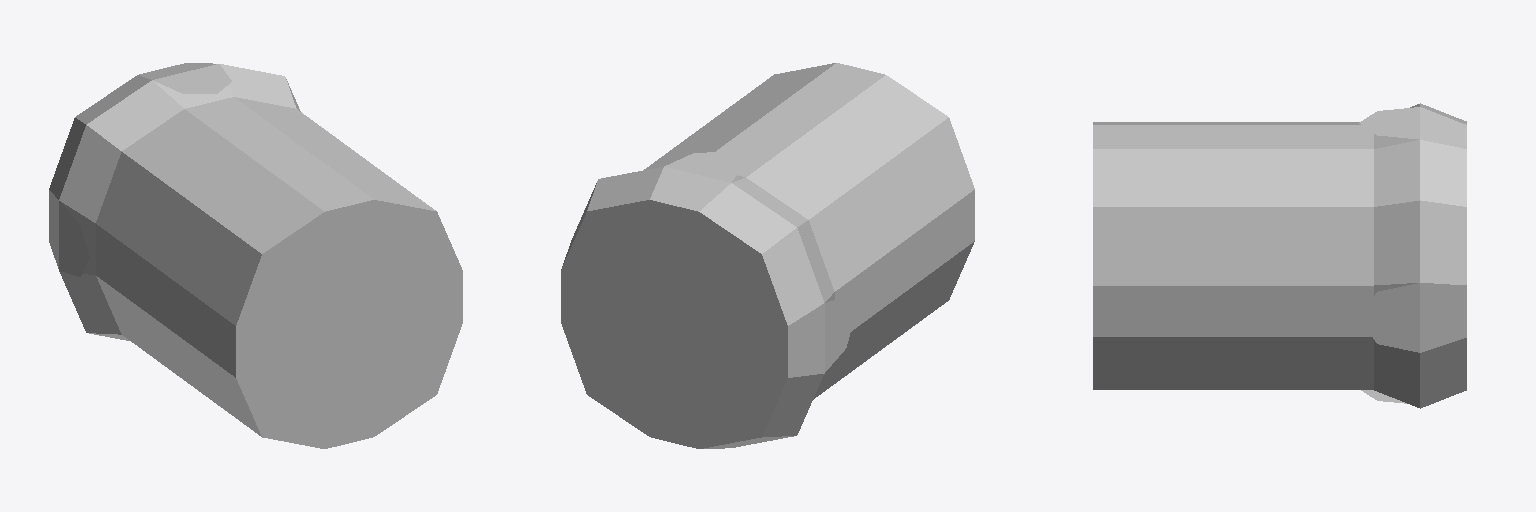
File: block-snow-overhang-narrow.obj
3 renders of one model, left to right at view 1: azimuth 30°, elevation 25°; view 2: azimuth 150°, elevation 25°; view 3: azimuth 270°, elevation 25°, orthographic.
Parts seen in each view (by area): view 1: block-snow-overhang-narrow; view 2: block-snow-overhang-narrow; view 3: block-snow-overhang-narrow.
Part boxes in pixels (bbox=[...]): block-snow-overhang-narrow: bbox=[49, 63, 462, 448]; block-snow-overhang-narrow: bbox=[561, 63, 974, 448]; block-snow-overhang-narrow: bbox=[1093, 103, 1466, 408].
Size of the model in its own units: 0.7821 by 0.7821 by 1.